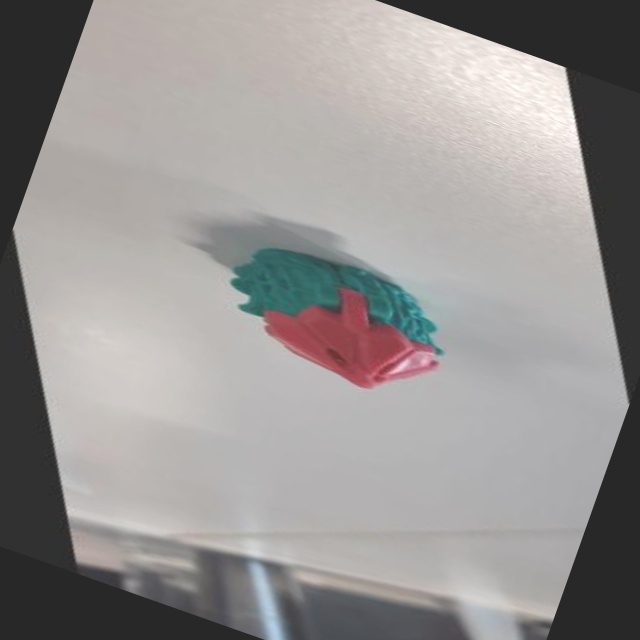House: (167, 202, 503, 444)
